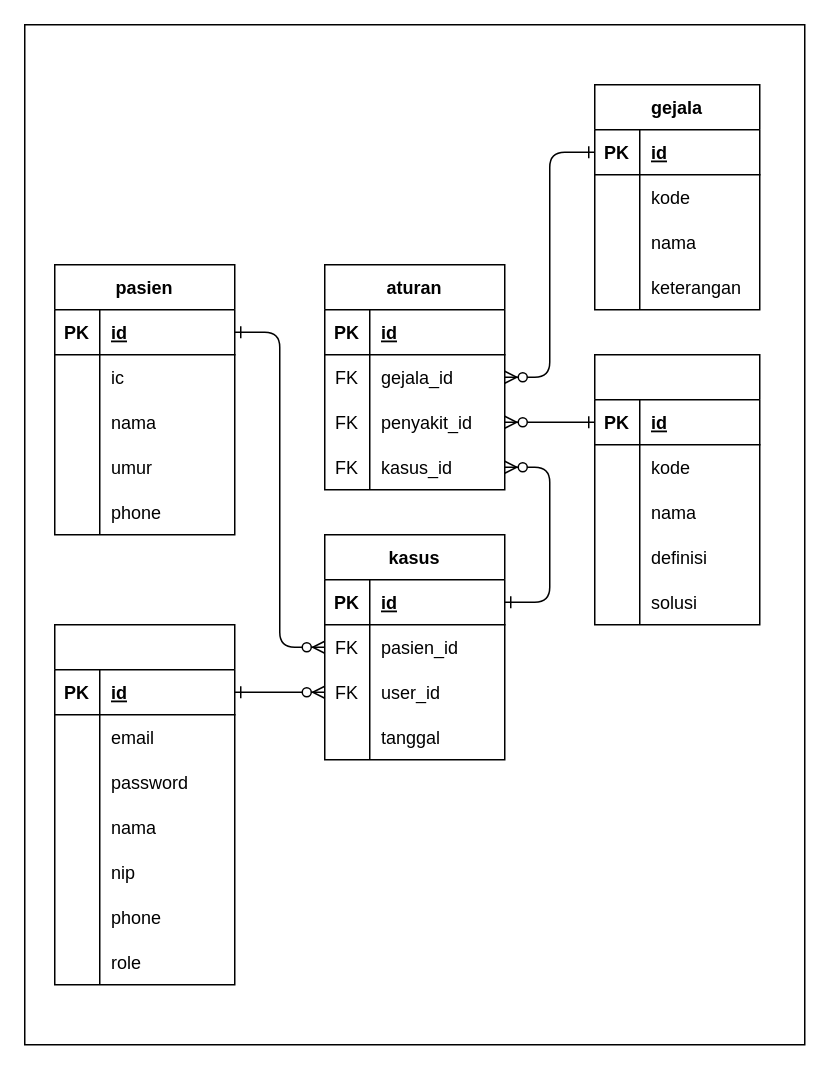
The diagram is 830 pixels wide and 1070 high, and some of its shapes have lost their labels. Here are the shapes that lost their labels. From the top down, the box of each, then its label:
(593, 353, 760, 625): penyakit
(53, 623, 235, 985): user
